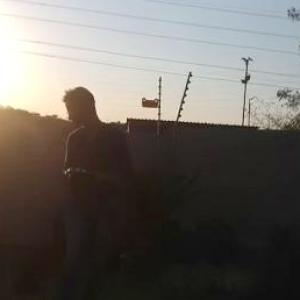follow: (54, 79, 138, 299)
